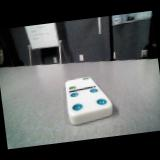domino: (65, 77, 112, 124)
